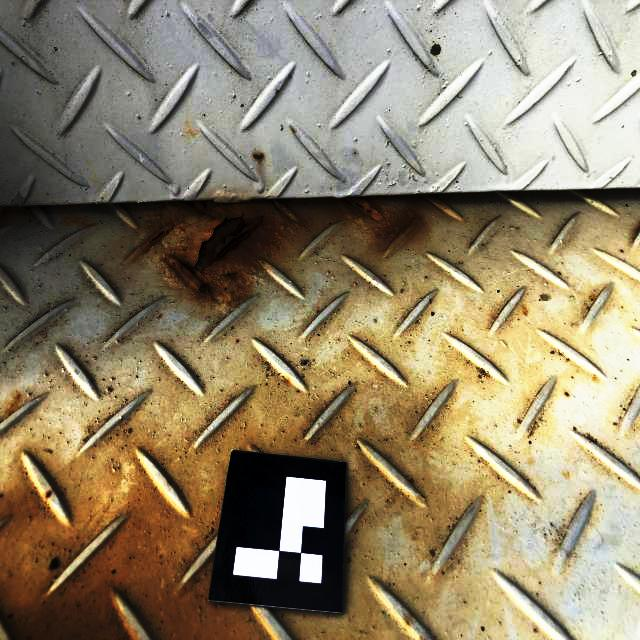Corrosion: (153, 201, 343, 306), (335, 198, 418, 246)
